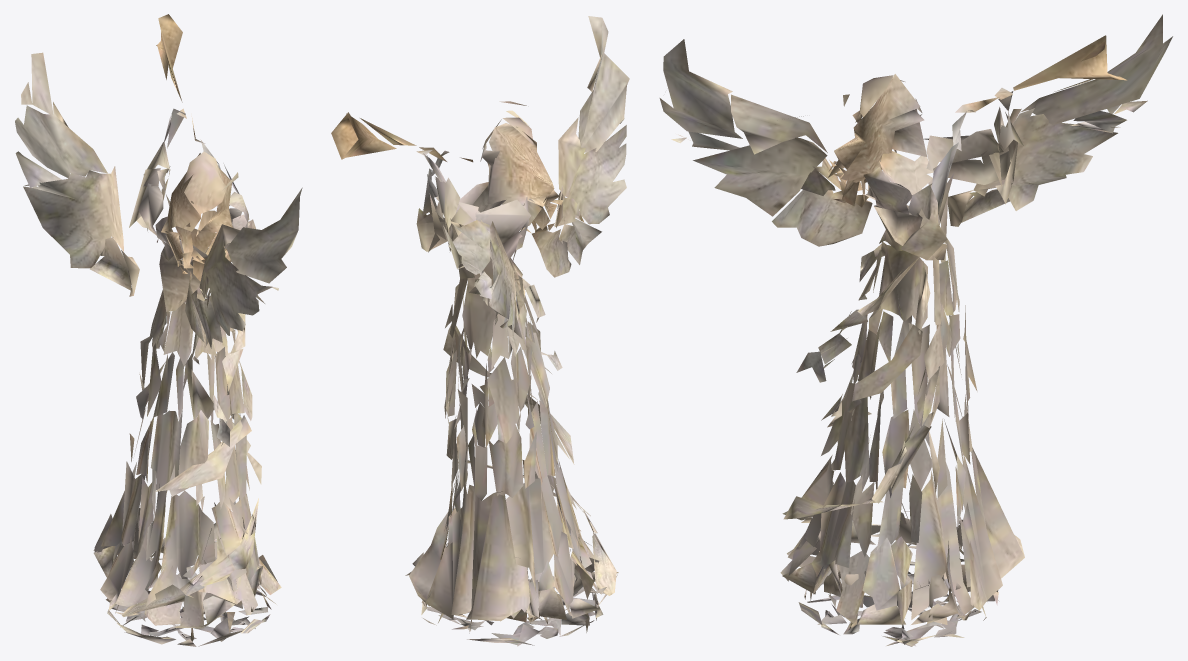
The model's file is lt_angel.glb.
The picture shows the model from 3 angles, left to right: view 1: azimuth 30°, elevation 25°; view 2: azimuth 150°, elevation 25°; view 3: azimuth 270°, elevation 25°; orthographic projection. The views are drawn at different scales.
Parts seen in each view (by area): view 1: tripo_node_c9a2e185-53f3-4a6a-b664-08e49accff9b; view 2: tripo_node_c9a2e185-53f3-4a6a-b664-08e49accff9b; view 3: tripo_node_c9a2e185-53f3-4a6a-b664-08e49accff9b.
Boxes of the visible parts, <box> form: tripo_node_c9a2e185-53f3-4a6a-b664-08e49accff9b: <box>15,14,302,646</box>; tripo_node_c9a2e185-53f3-4a6a-b664-08e49accff9b: <box>331,16,629,646</box>; tripo_node_c9a2e185-53f3-4a6a-b664-08e49accff9b: <box>659,14,1172,646</box>.
Size of the model in its own units: 0.3313 by 1.01 by 0.7695.
Materials: 1 (1 with a texture image).
